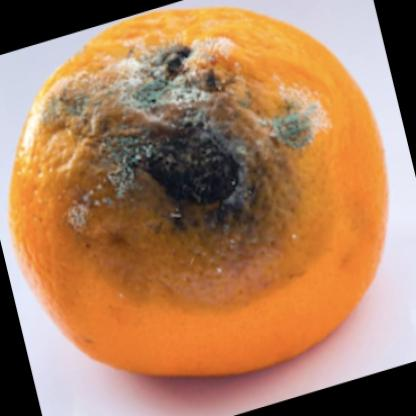rotten: (13, 8, 390, 379)
